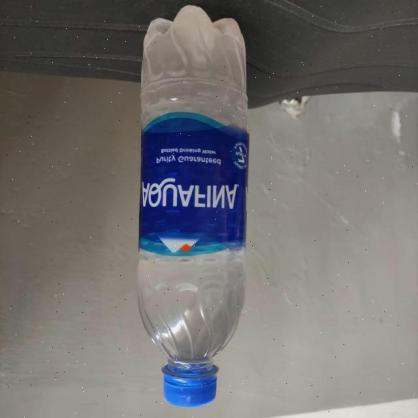bottle: (128, 5, 251, 408)
cap: (162, 364, 218, 406)
label: (138, 113, 251, 247)
